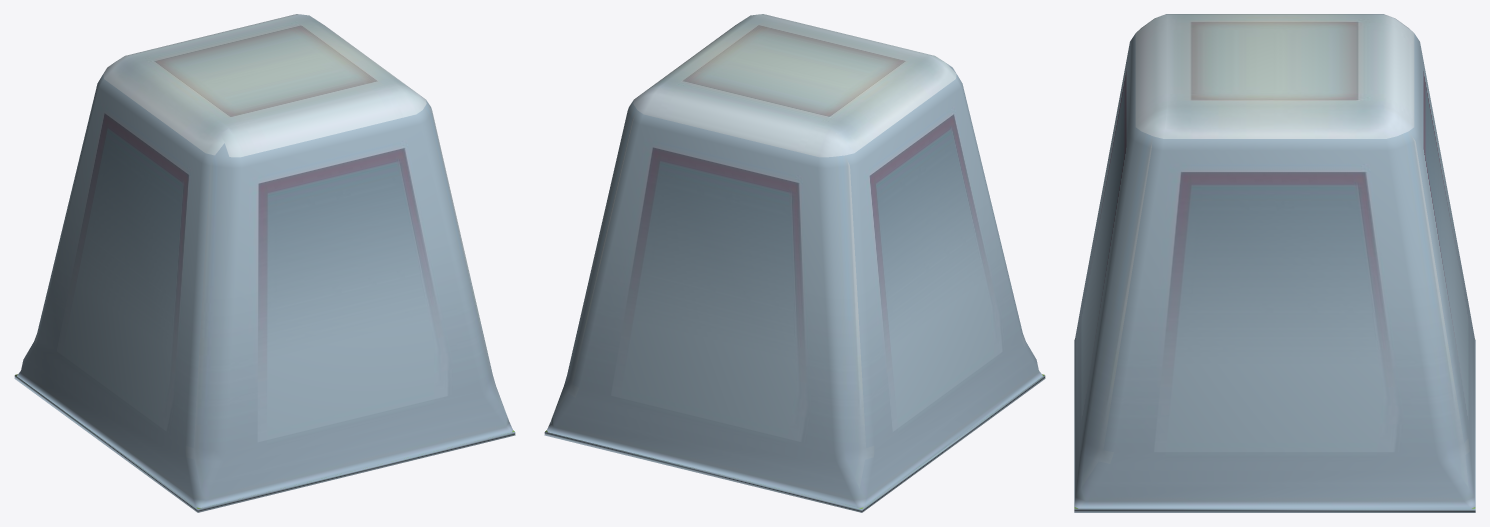
The model's file is pillar.obj.
The picture shows the model from 3 angles, left to right: view 1: azimuth 30°, elevation 25°; view 2: azimuth 150°, elevation 25°; view 3: azimuth 270°, elevation 25°; orthographic projection. The views are drawn at different scales.
Visible parts, largest first — view 1: pillar_Cube.001; view 2: pillar_Cube.001; view 3: pillar_Cube.001.
Part boxes in pixels (x1,y1,x2,y2): pillar_Cube.001: (14,14,515,512); pillar_Cube.001: (544,14,1045,512); pillar_Cube.001: (1074,14,1475,512).
Bounding box in the file's own units: 2 × 2.02 × 2.
Materials: 1 (1 with a texture image).
